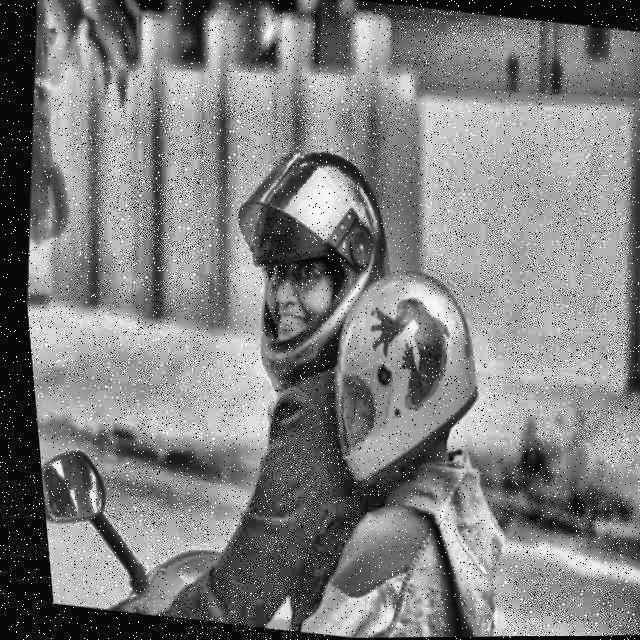Helmet: (204, 133, 418, 411), (300, 255, 498, 510)
